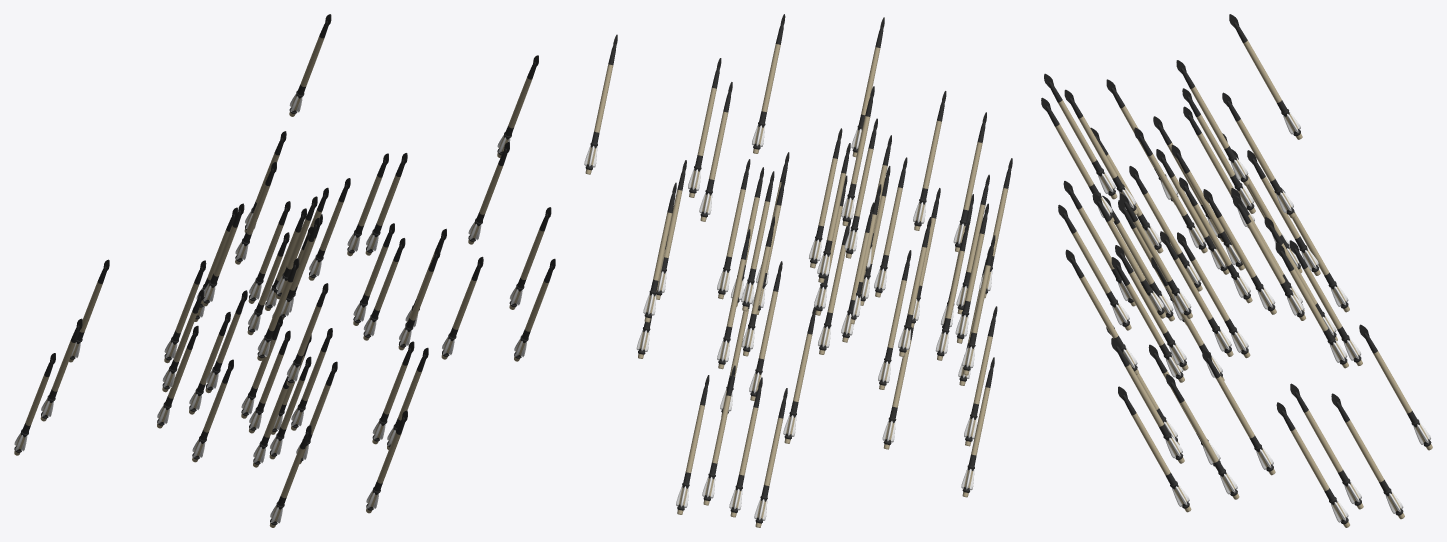
The picture shows the model from 3 angles, left to right: view 1: azimuth 30°, elevation 25°; view 2: azimuth 150°, elevation 25°; view 3: azimuth 270°, elevation 25°; orthographic projection. The views are drawn at different scales.
Visible parts, largest first — view 1: B3; view 2: B3; view 3: B3.
Part boxes in pixels (x1,y1,x2,y2): B3: (14, 14, 555, 527); B3: (584, 14, 1012, 527); B3: (1041, 14, 1432, 527).
Bounding box in the file's own units: 1.24 × 1.3 × 0.9194.
